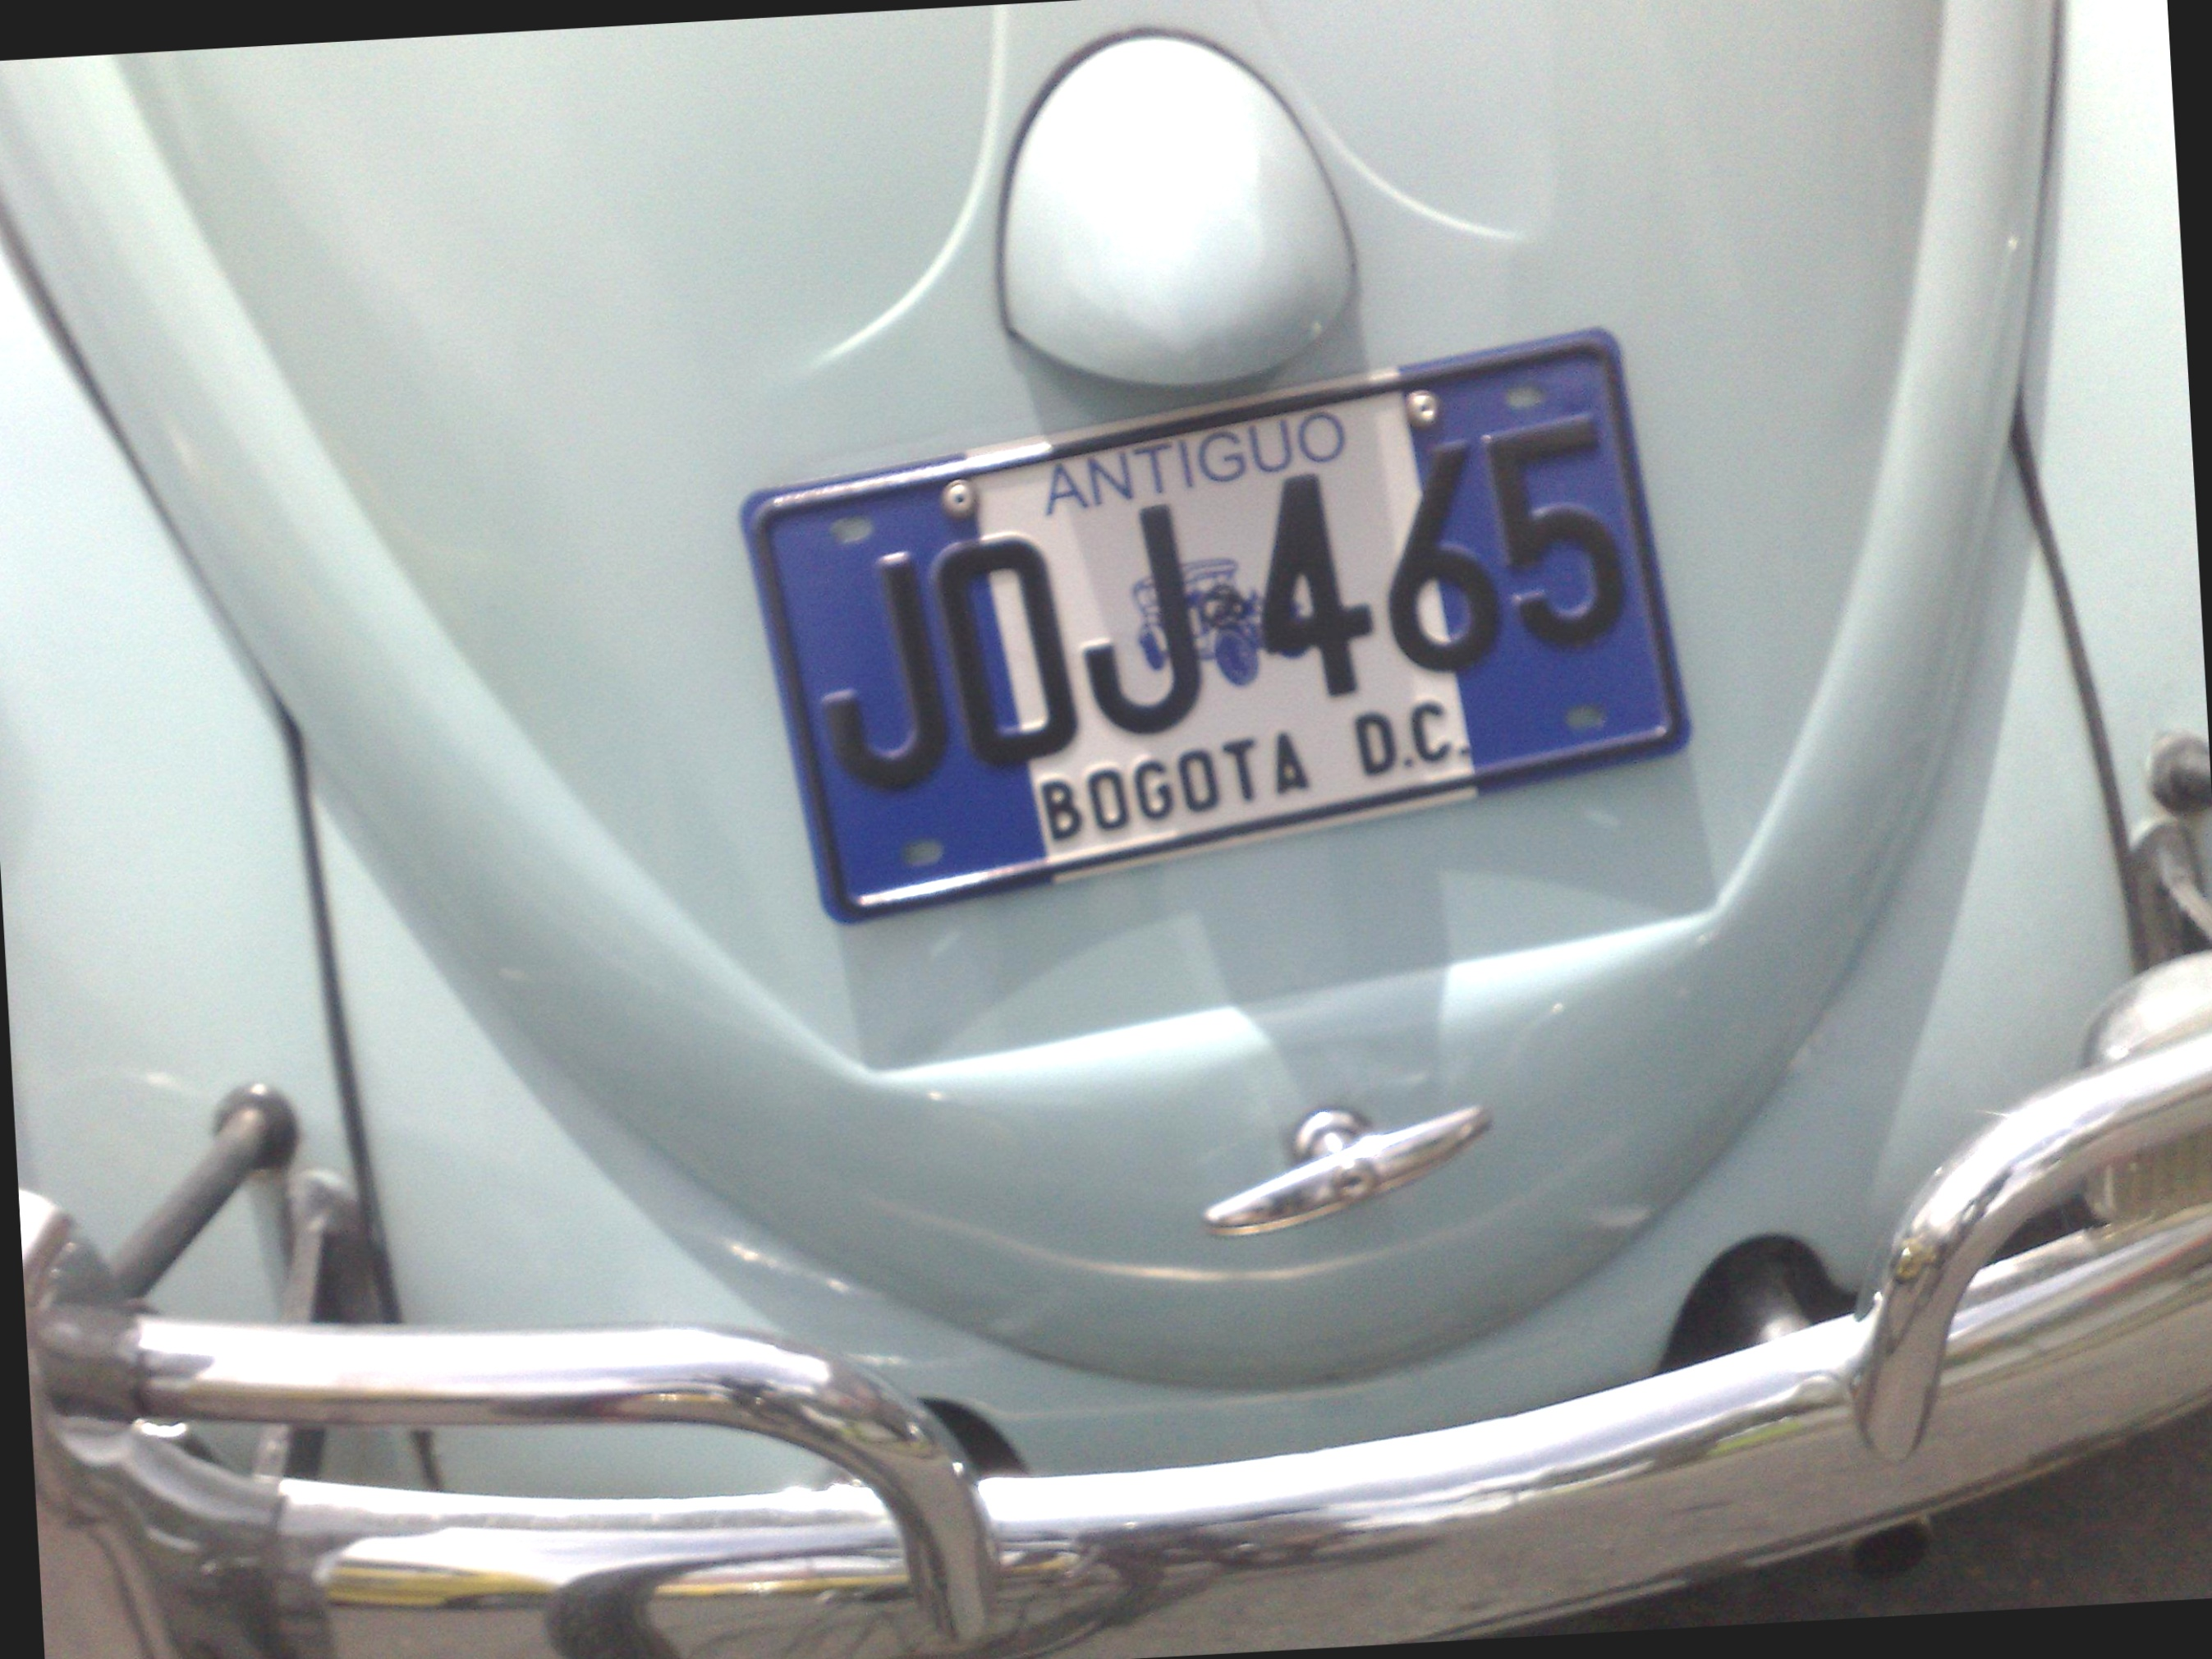placas: (724, 321, 1708, 938)
